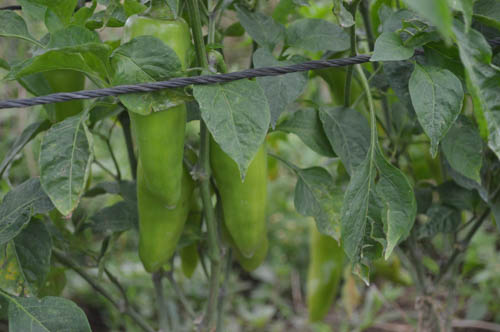ChiliPepper: (125, 16, 189, 209), (133, 162, 189, 276), (213, 139, 267, 257), (305, 222, 342, 325), (216, 216, 267, 274)
